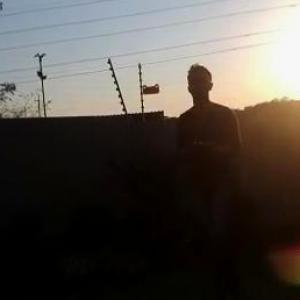follow: (172, 48, 251, 299)
